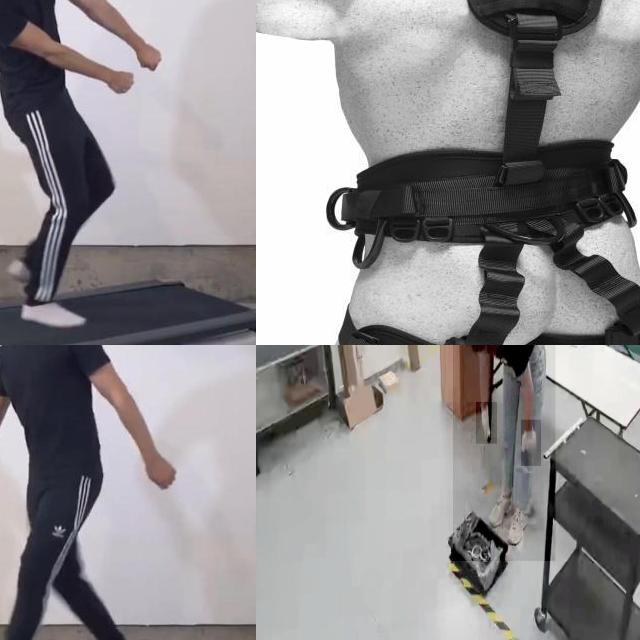Harness: (327, 0, 640, 345)
hand_glove: (521, 419, 541, 466), (476, 402, 498, 444)
hand_noglove: (128, 443, 186, 500), (96, 50, 141, 106), (123, 31, 173, 74)
person: (0, 0, 162, 328), (0, 345, 177, 640), (453, 345, 556, 562)
shoes: (503, 503, 535, 549), (487, 487, 515, 532)
